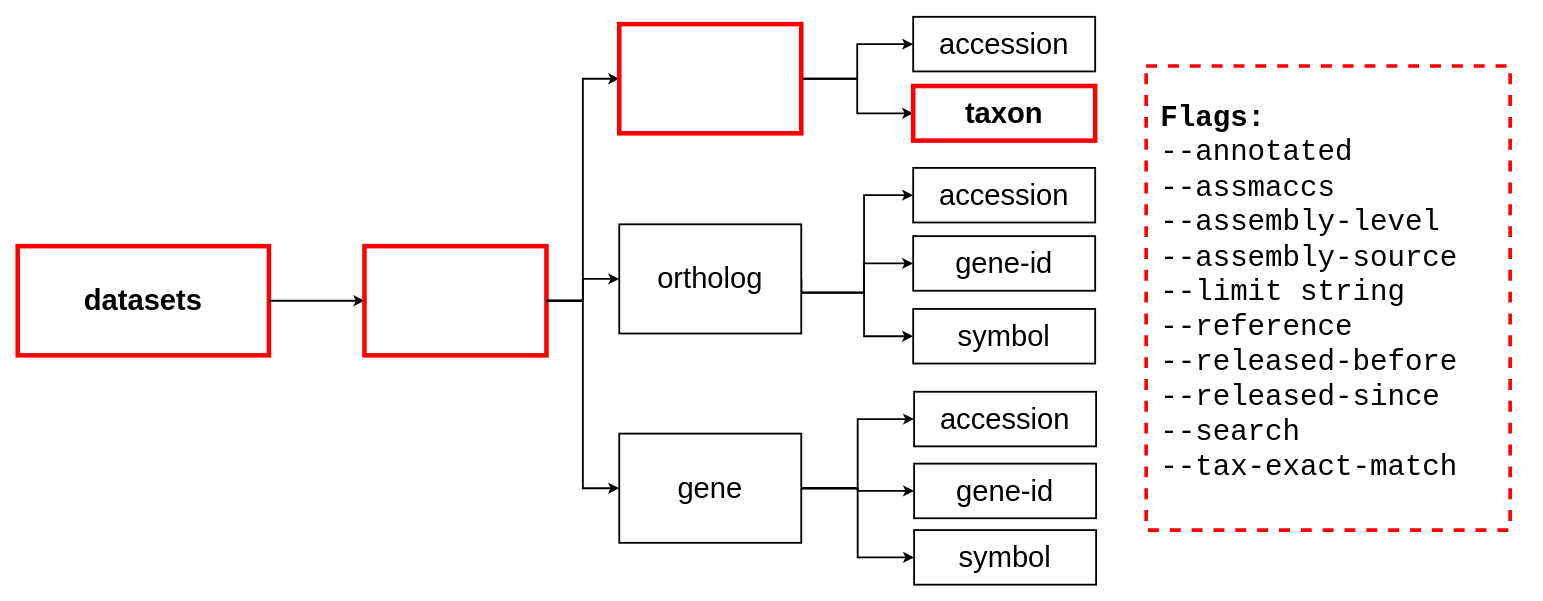
Some shapes in this 1543 by 601 pixel diagram are drawn without their labels. Here are the shapes that lost their labels. From the top down, the box of each, then its label:
(617, 21, 803, 135): genome
(362, 243, 548, 357): summary
